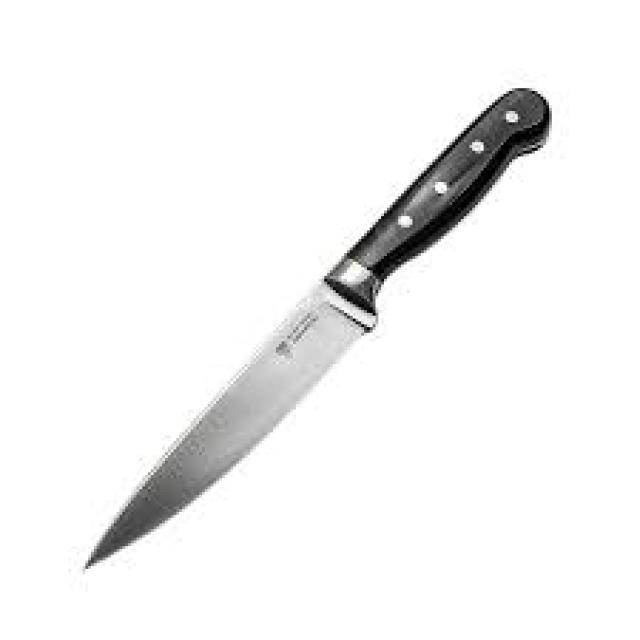Knife: (80, 85, 546, 569)
